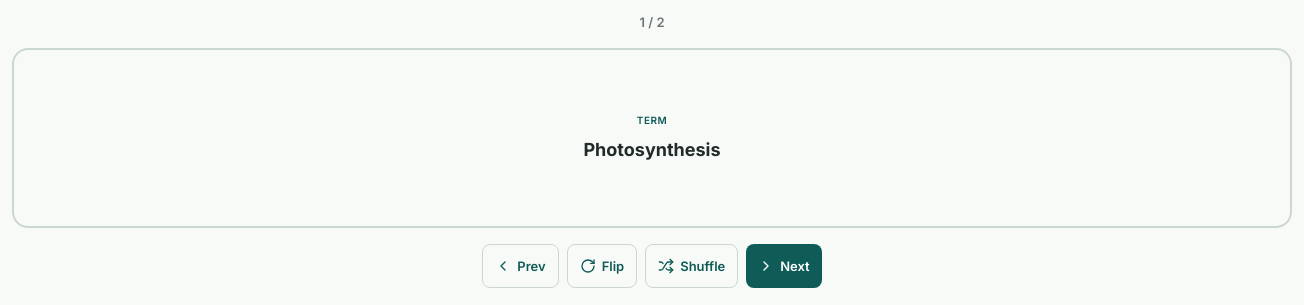
Test case: Flashcards › shows the term first, flips to the definition on click, and tracks position
Expected: the text "1 / 2" is shown, x1=640 y1=12 x2=665 y2=32
Expected: the text "Photosynthesis" is shown, x1=583 y1=136 x2=720 y2=164
Click the button with aria-label "showing term" at (652, 138), box x1=12 y1=48 x2=1292 y2=228
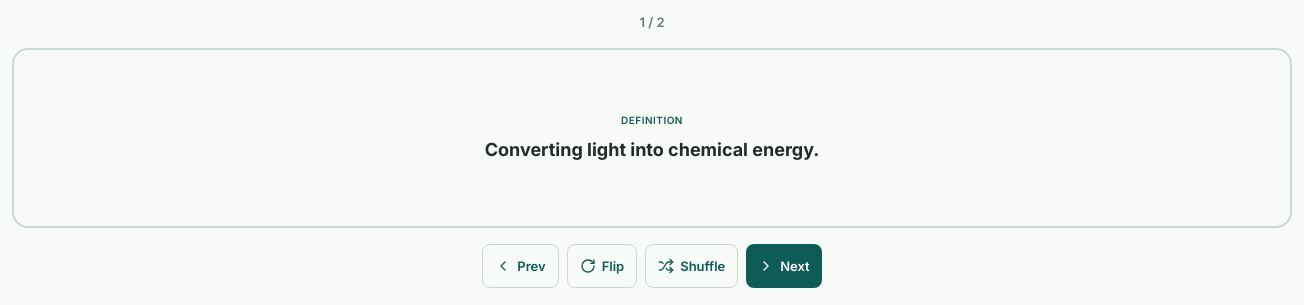
Now the text "Converting light into chemical energy." is shown, box x1=485 y1=136 x2=819 y2=164
